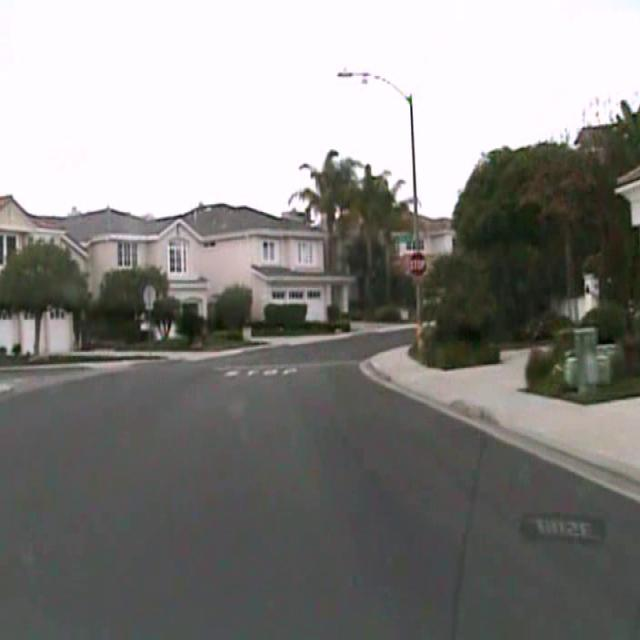stop_sign: (408, 249, 428, 279)
